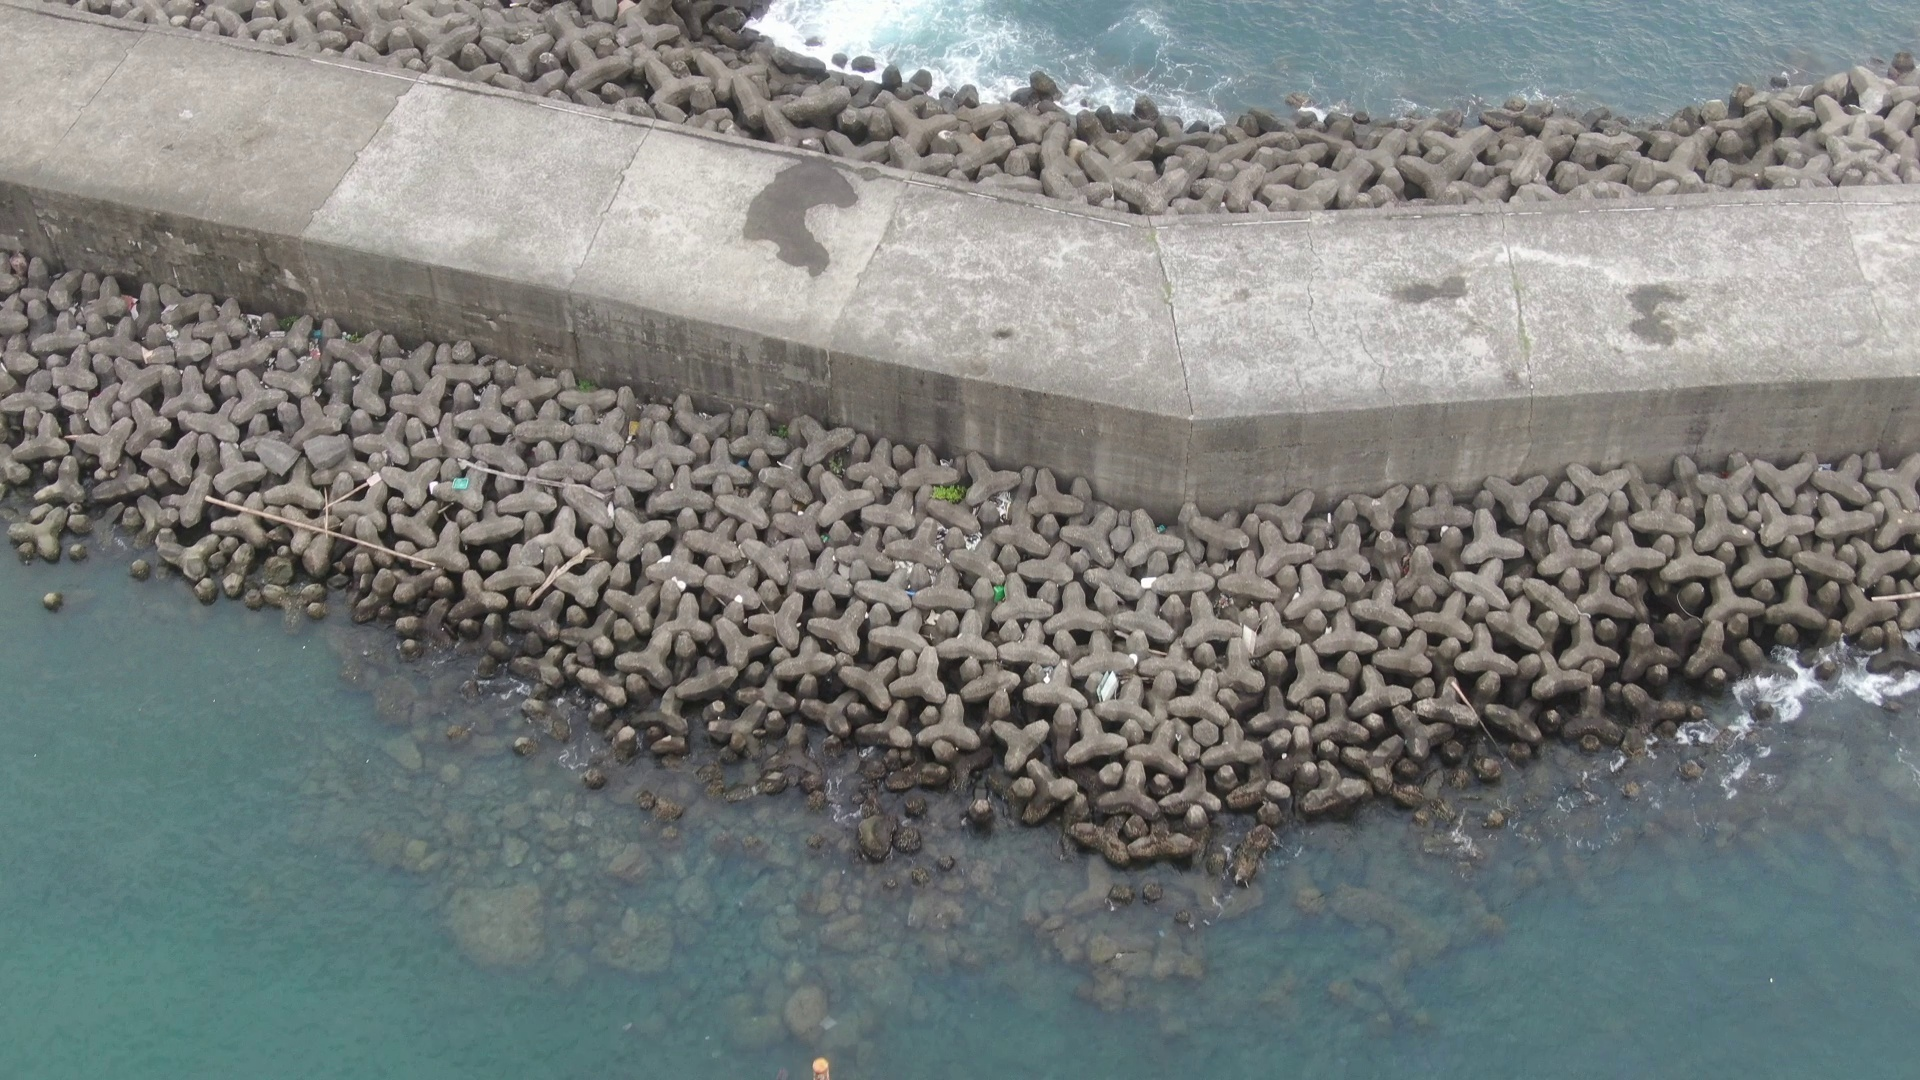garbage: (971, 568, 1010, 607), (1091, 669, 1129, 702), (444, 473, 491, 493)
